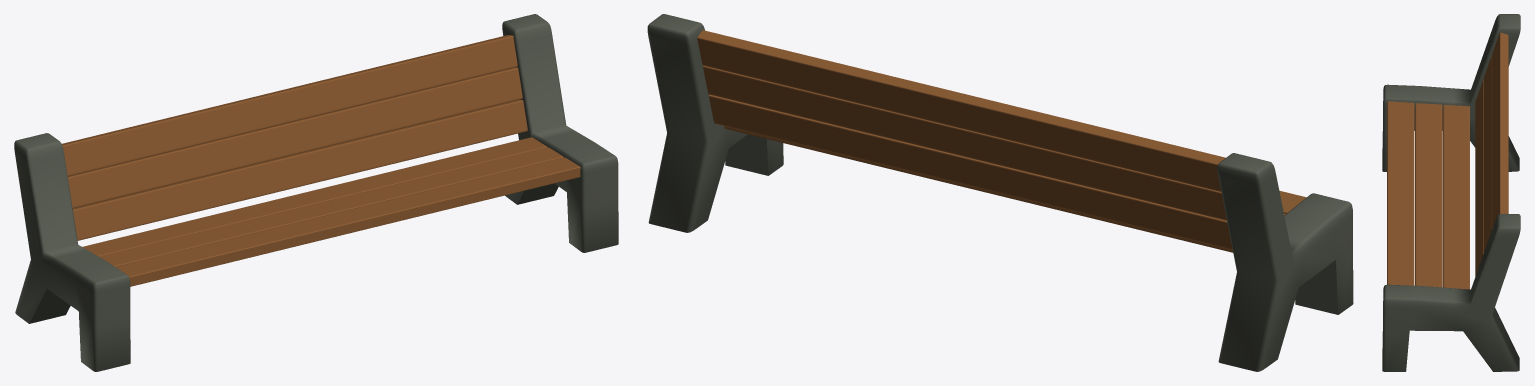
File: bench.fbx
3 views of the same model, side by side, from view 1: azimuth 30°, elevation 25°; view 2: azimuth 150°, elevation 25°; view 3: azimuth 270°, elevation 25° (orthographic). The views are drawn at different scales.
Parts seen in each view (by area): view 1: Plank.001, Plank.003, Plank.002, Leg, Leg.001, Plank, Plank.005, Plank.004; view 2: Leg, Plank.001, Plank.003, Plank.002, Leg.001, Plank.004; view 3: Leg.001, Plank, Plank.005, Plank.004, Leg, Plank.001, Plank.003, Plank.002.
Part boxes in pixels (<box>): Plank.001: <box>62,35,517,176</box>; Plank.003: <box>72,99,527,240</box>; Plank.002: <box>67,67,522,208</box>; Leg: <box>14,133,130,371</box>; Leg.001: <box>502,14,618,252</box>; Plank: <box>115,157,580,286</box>; Plank.005: <box>99,147,563,266</box>; Plank.004: <box>82,137,547,256</box>; Leg: <box>1217,153,1353,371</box>; Plank.001: <box>697,30,1225,191</box>; Plank.003: <box>709,94,1232,249</box>; Plank.002: <box>703,65,1226,220</box>; Leg.001: <box>647,14,783,232</box>; Plank.004: <box>724,126,1233,252</box>; Leg.001: <box>1382,214,1520,371</box>; Plank: <box>1387,101,1414,285</box>; Plank.005: <box>1415,103,1442,287</box>; Plank.004: <box>1442,105,1469,289</box>; Leg: <box>1382,14,1520,171</box>; Plank.001: <box>1492,32,1508,228</box>; Plank.003: <box>1475,80,1483,276</box>; Plank.002: <box>1483,56,1491,252</box>.
Size of the model in its own units: 2277 by 712 by 619.
